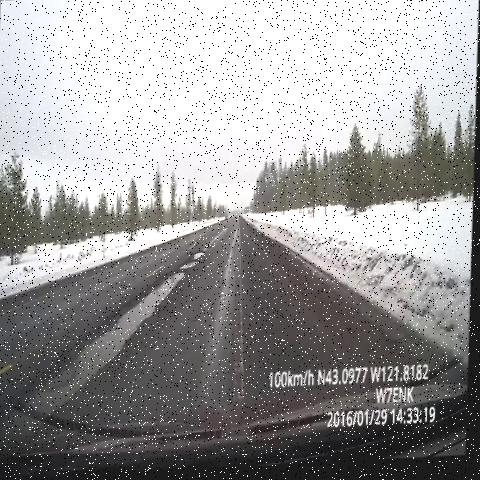pothole: (23, 268, 191, 427), (177, 246, 209, 280), (221, 218, 236, 240)
